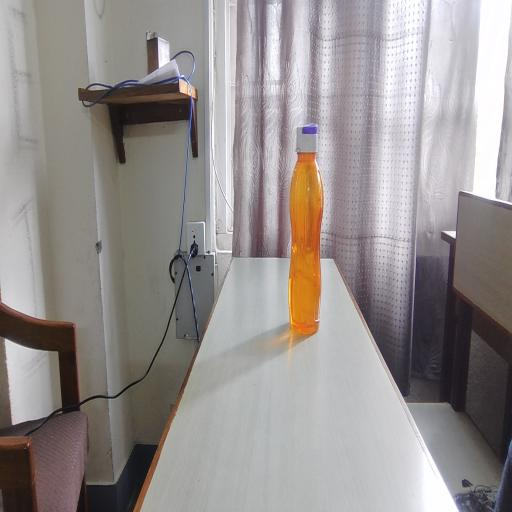Bottle: (284, 121, 355, 337)
